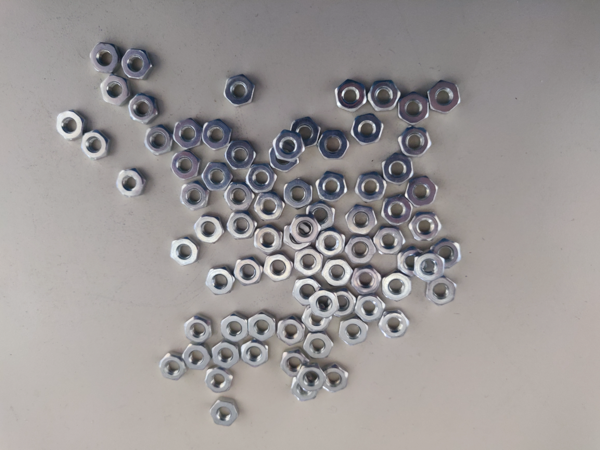nut: (350, 114, 384, 148), (199, 162, 233, 195), (429, 80, 461, 115), (382, 154, 414, 187), (225, 138, 257, 171), (224, 74, 255, 108), (397, 93, 429, 125), (346, 203, 378, 235), (335, 79, 366, 112), (380, 196, 413, 227), (430, 237, 461, 270), (272, 130, 305, 161), (367, 81, 401, 111), (406, 176, 438, 207), (318, 129, 349, 161), (316, 172, 348, 203), (222, 182, 255, 212), (55, 111, 88, 141), (119, 49, 153, 78), (290, 117, 321, 148), (173, 119, 204, 150), (283, 178, 313, 210), (88, 42, 120, 72), (127, 94, 159, 124), (409, 213, 442, 242), (144, 125, 173, 158), (355, 173, 386, 203), (201, 119, 231, 150), (246, 163, 276, 194), (80, 130, 110, 161), (293, 248, 324, 278), (413, 252, 445, 281), (399, 128, 432, 156), (116, 168, 146, 198), (306, 200, 336, 230), (233, 257, 263, 287), (379, 309, 409, 339), (263, 253, 294, 282), (345, 234, 376, 263), (350, 266, 381, 295), (374, 228, 406, 256), (337, 318, 369, 346), (171, 237, 201, 266), (253, 226, 283, 255), (310, 289, 340, 318), (170, 151, 201, 179), (194, 215, 225, 243), (302, 332, 334, 359), (293, 279, 326, 305), (159, 353, 188, 382), (383, 273, 412, 302), (276, 318, 305, 347), (206, 267, 236, 295), (210, 399, 240, 427), (100, 78, 131, 105), (253, 194, 284, 221), (322, 260, 353, 287), (316, 231, 346, 258), (425, 279, 456, 305), (290, 216, 321, 242), (321, 364, 349, 392), (298, 365, 326, 393), (180, 183, 209, 210), (228, 213, 257, 240), (184, 316, 213, 343), (221, 314, 248, 342), (290, 374, 318, 401), (249, 312, 275, 341), (281, 352, 310, 378), (355, 297, 385, 322), (242, 342, 269, 369), (206, 369, 234, 395), (302, 309, 333, 332), (212, 342, 239, 368), (183, 345, 210, 371), (270, 147, 298, 172), (284, 224, 309, 251), (399, 249, 420, 279), (331, 291, 354, 317)
